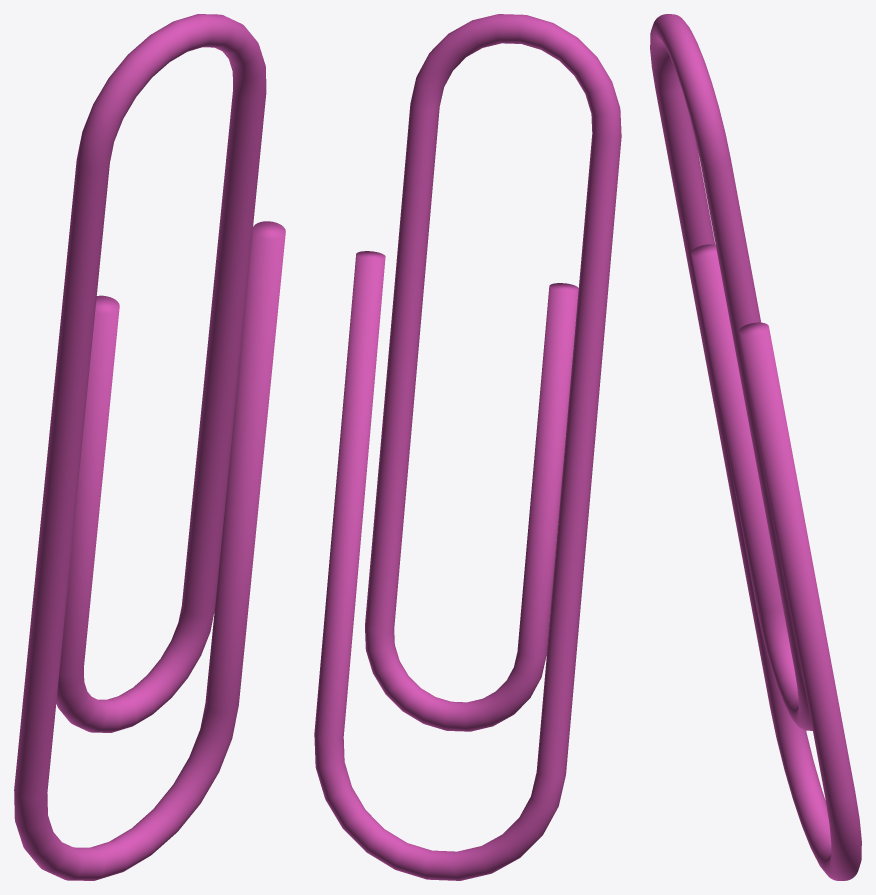
The picture shows the model from 3 angles, left to right: view 1: azimuth 30°, elevation 25°; view 2: azimuth 150°, elevation 25°; view 3: azimuth 270°, elevation 25°; orthographic projection. The views are drawn at different scales.
Visible parts, largest first — view 1: Cylinder.020; view 2: Cylinder.020; view 3: Cylinder.020.
Boxes of the visible parts, <box> form: Cylinder.020: <box>14,14,285,880</box>; Cylinder.020: <box>314,14,621,880</box>; Cylinder.020: <box>650,14,861,880</box>.
Size of the model in its own units: 0.2989 by 1.05 by 0.2391.
